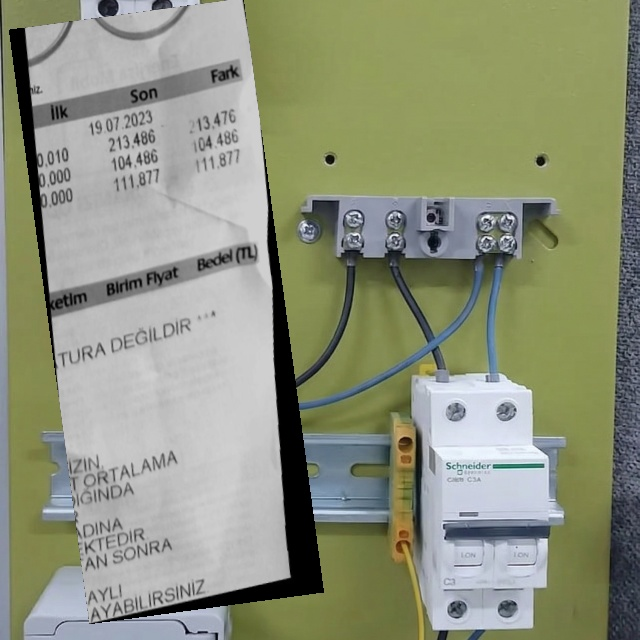electricity-bill: (8, 0, 324, 624)
